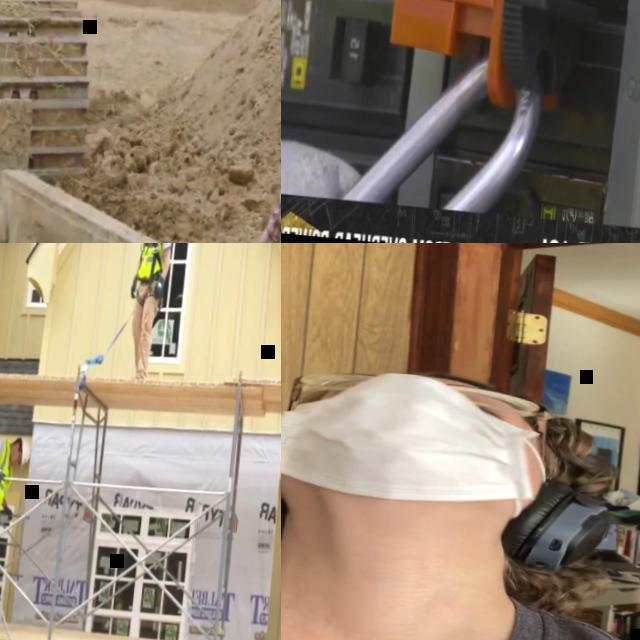Hardhat: (17, 436, 33, 468)
Mask: (281, 361, 565, 513)
NO-Hardhat: (521, 389, 640, 492)
NO-Mask: (10, 448, 18, 467)
NO-Safety Vest: (281, 558, 640, 640)
Person: (281, 349, 640, 640), (281, 40, 365, 198), (122, 243, 177, 380), (0, 431, 32, 633)
Safety Vest: (0, 434, 17, 520), (138, 243, 169, 279)
vehicle: (0, 0, 113, 187)
